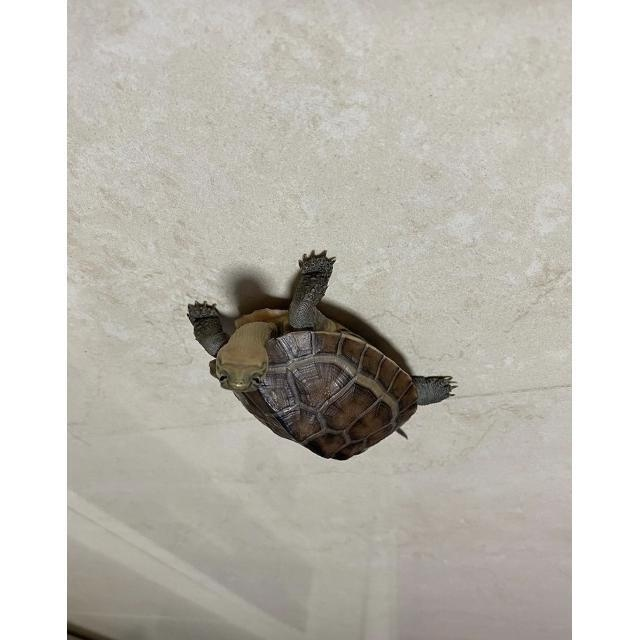turtle: (186, 250, 458, 462)
